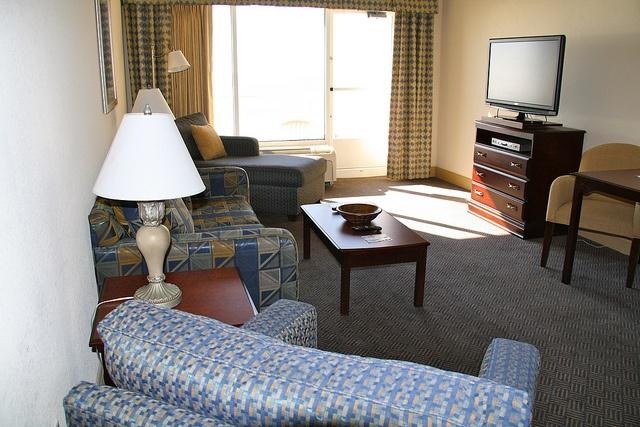AIO PC-Monitor-TV: (484, 33, 566, 116)
Meja: (299, 199, 430, 315)
